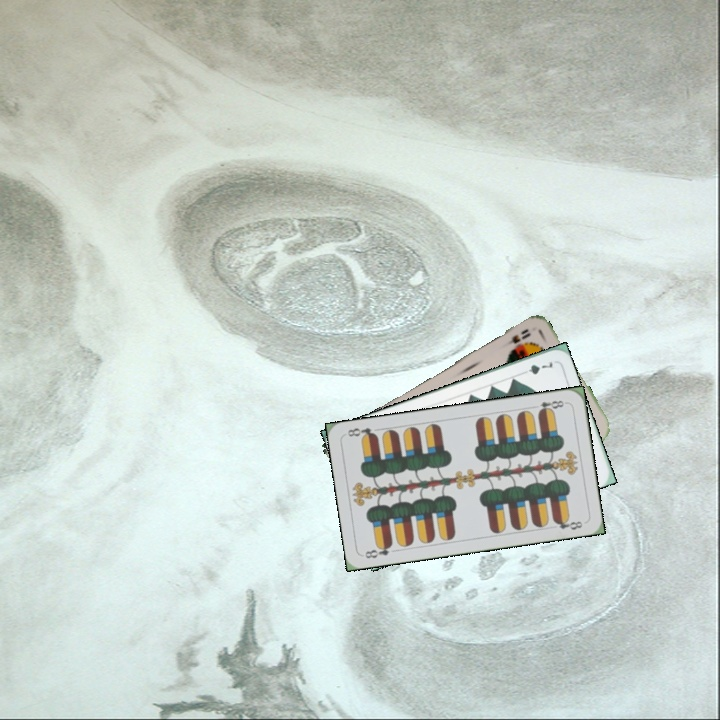E8: (529, 396, 569, 416), (361, 539, 395, 561)
G7: (516, 358, 557, 377)
SO: (498, 325, 534, 350)
